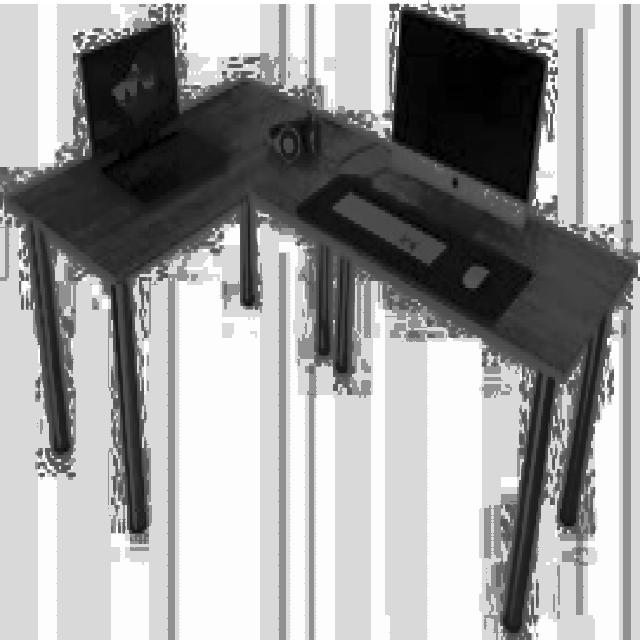table: (5, 75, 635, 629)
